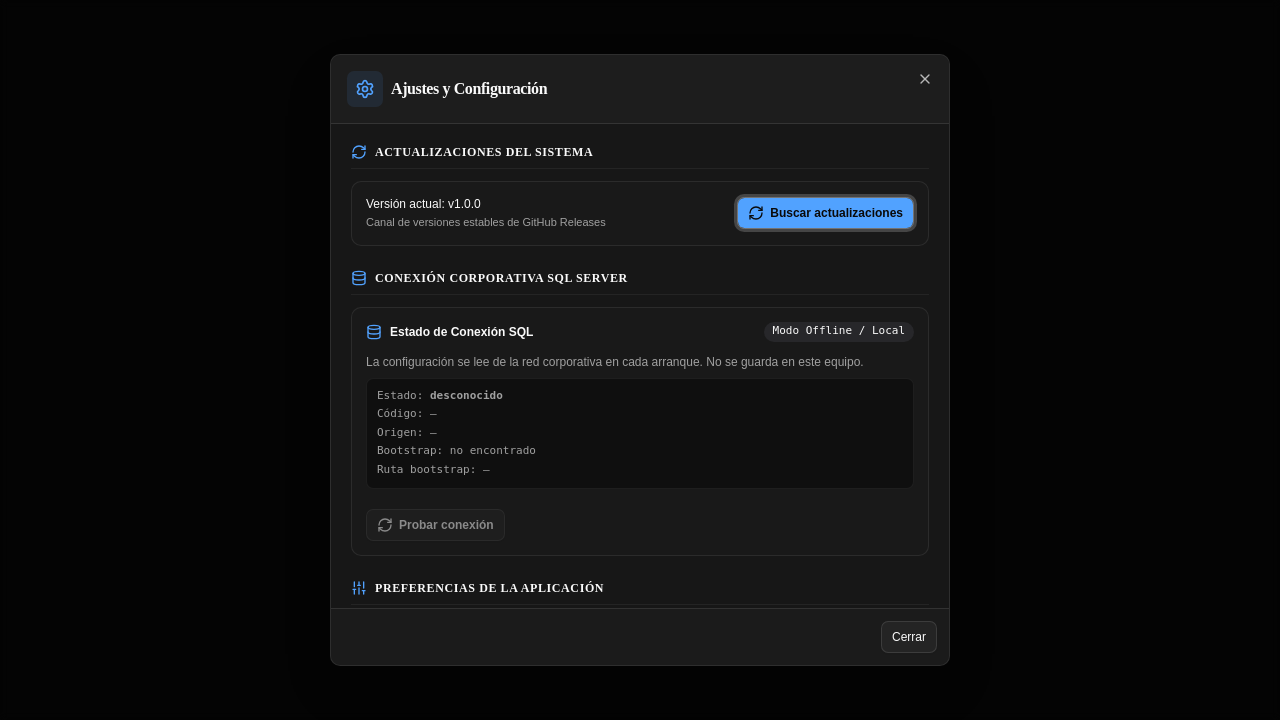
SettingsModal Component › checks for updates and shows up-to-date state when no new version
What coordinates should you click on to do the following:
click the button "Buscar actualizaciones"
I would click on:
 (826, 213)
Its box is [737, 197, 914, 229].
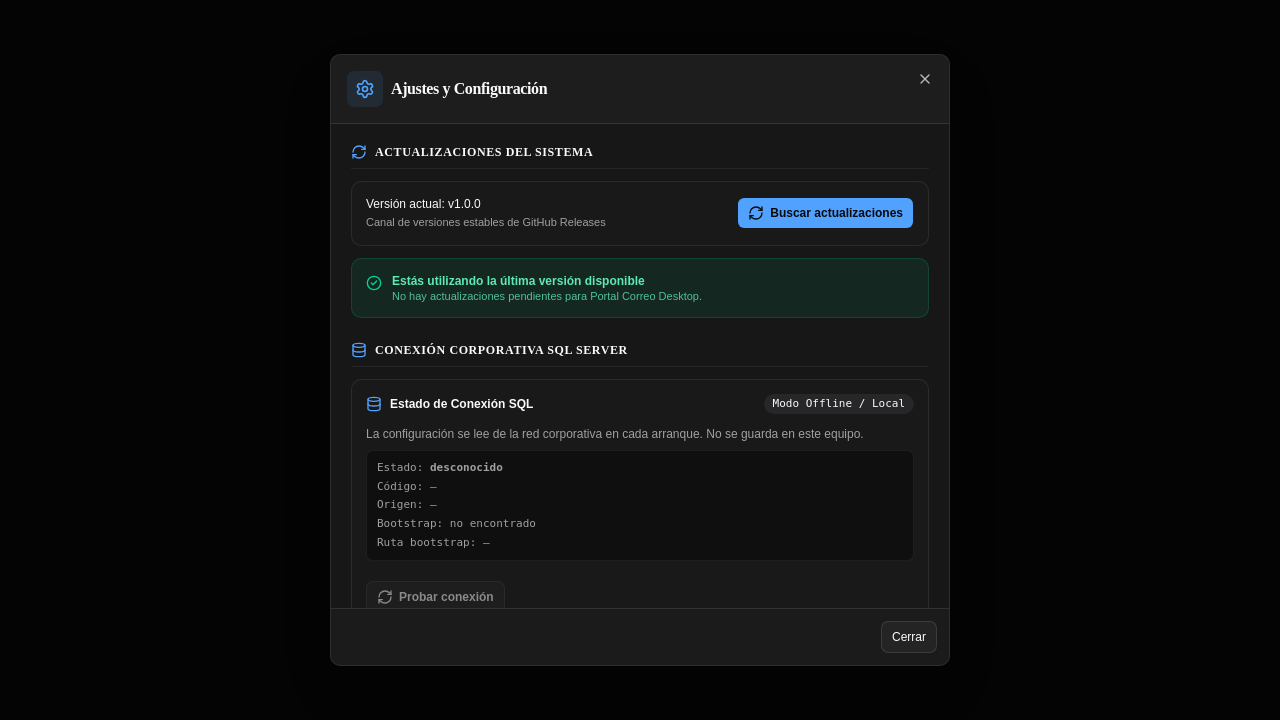
Expected: the text "Estás utilizando la última versión disponible" is shown, [392, 274, 645, 288]
